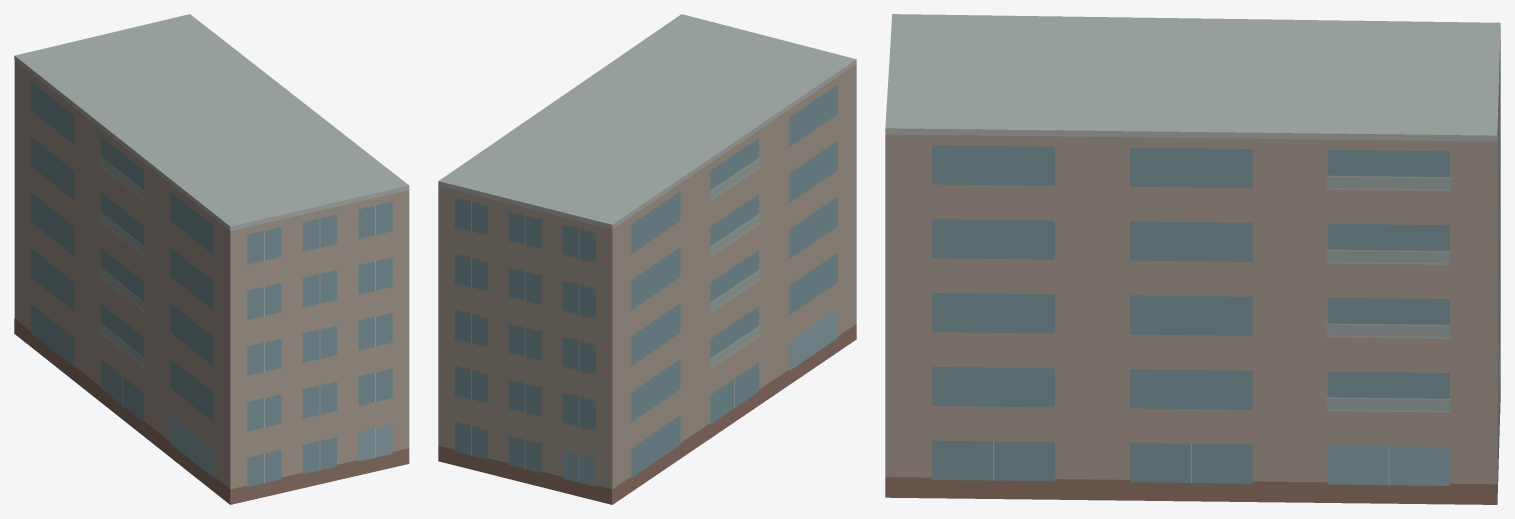
File: survey-upis-32816688.glb
The picture shows the model from 3 angles, left to right: view 1: azimuth 30°, elevation 25°; view 2: azimuth 150°, elevation 25°; view 3: azimuth 270°, elevation 25°; orthographic projection. The views are drawn at different scales.
Parts seen in each view (by area): view 1: survey-upis-32816688.tmp; view 2: survey-upis-32816688.tmp; view 3: survey-upis-32816688.tmp.
Boxes of the visible parts, x1,y1,x2,y2 form: survey-upis-32816688.tmp: (14, 14, 409, 504); survey-upis-32816688.tmp: (438, 14, 856, 504); survey-upis-32816688.tmp: (885, 14, 1500, 504).
Size of the model in its own units: 10.49 by 14.85 by 22.43.
